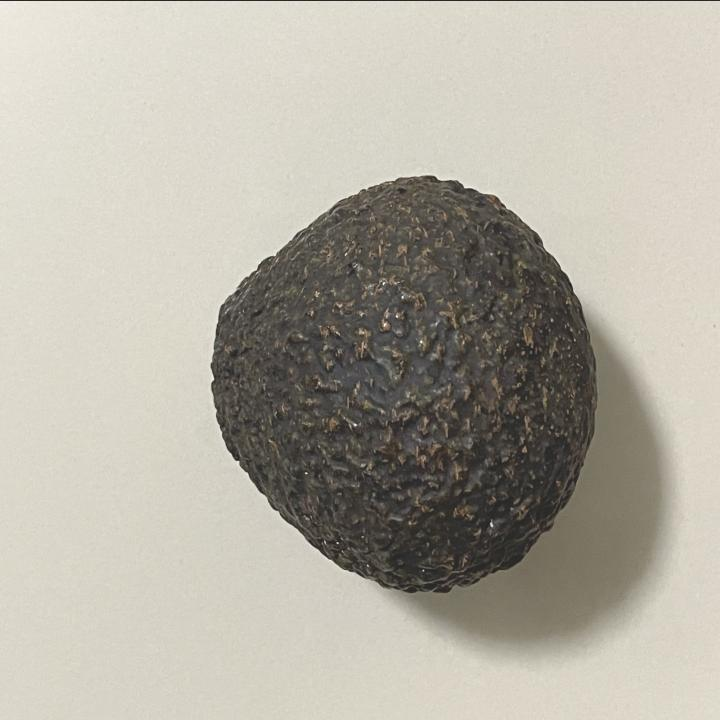Level1: (184, 141, 618, 613)
